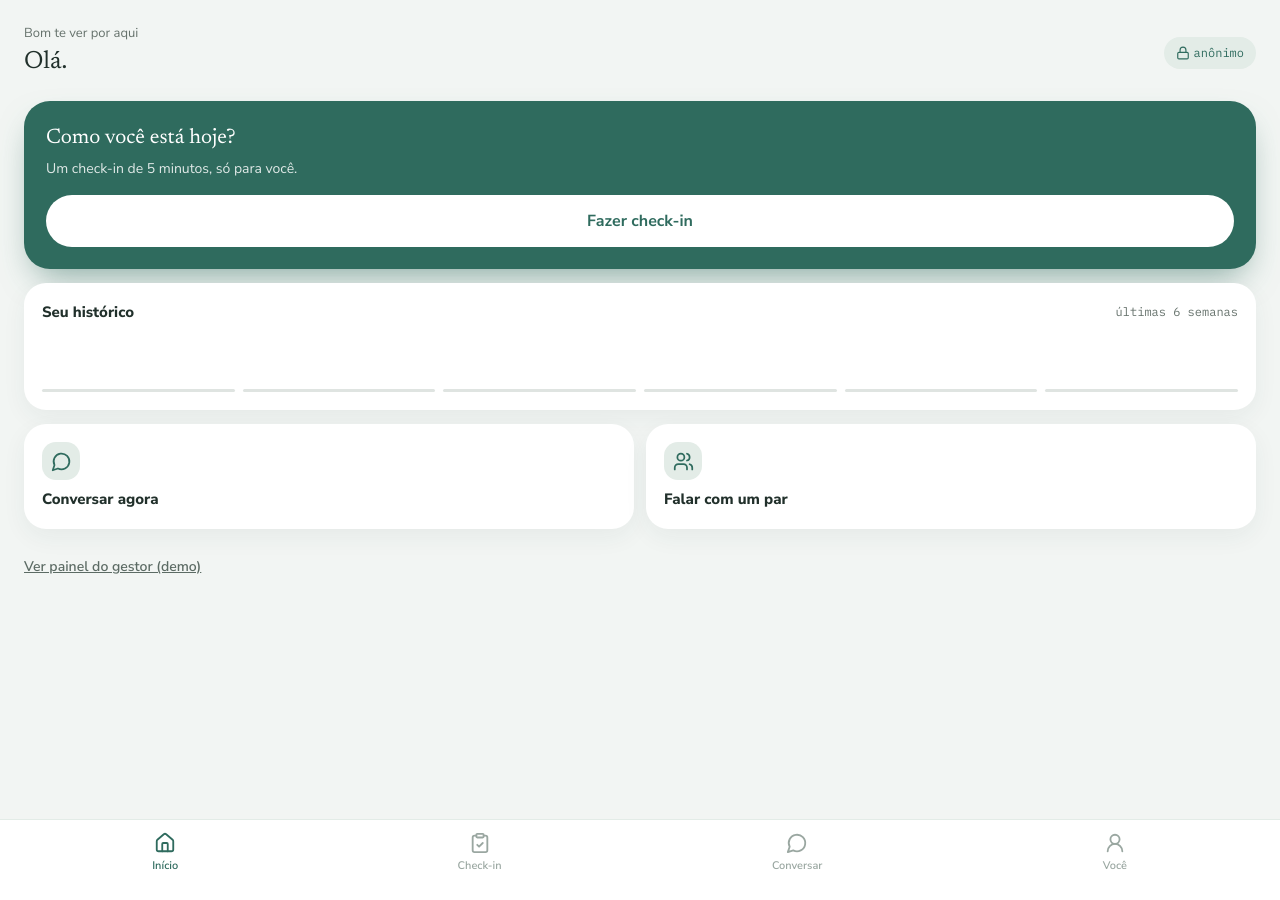
Test: onboarding router flow › Home's Manager demo link reaches the manager login screen when unauthenticated
Click the button "Ver painel do gestor (demo)".
click(113, 567)  # box [24,545,1256,589]
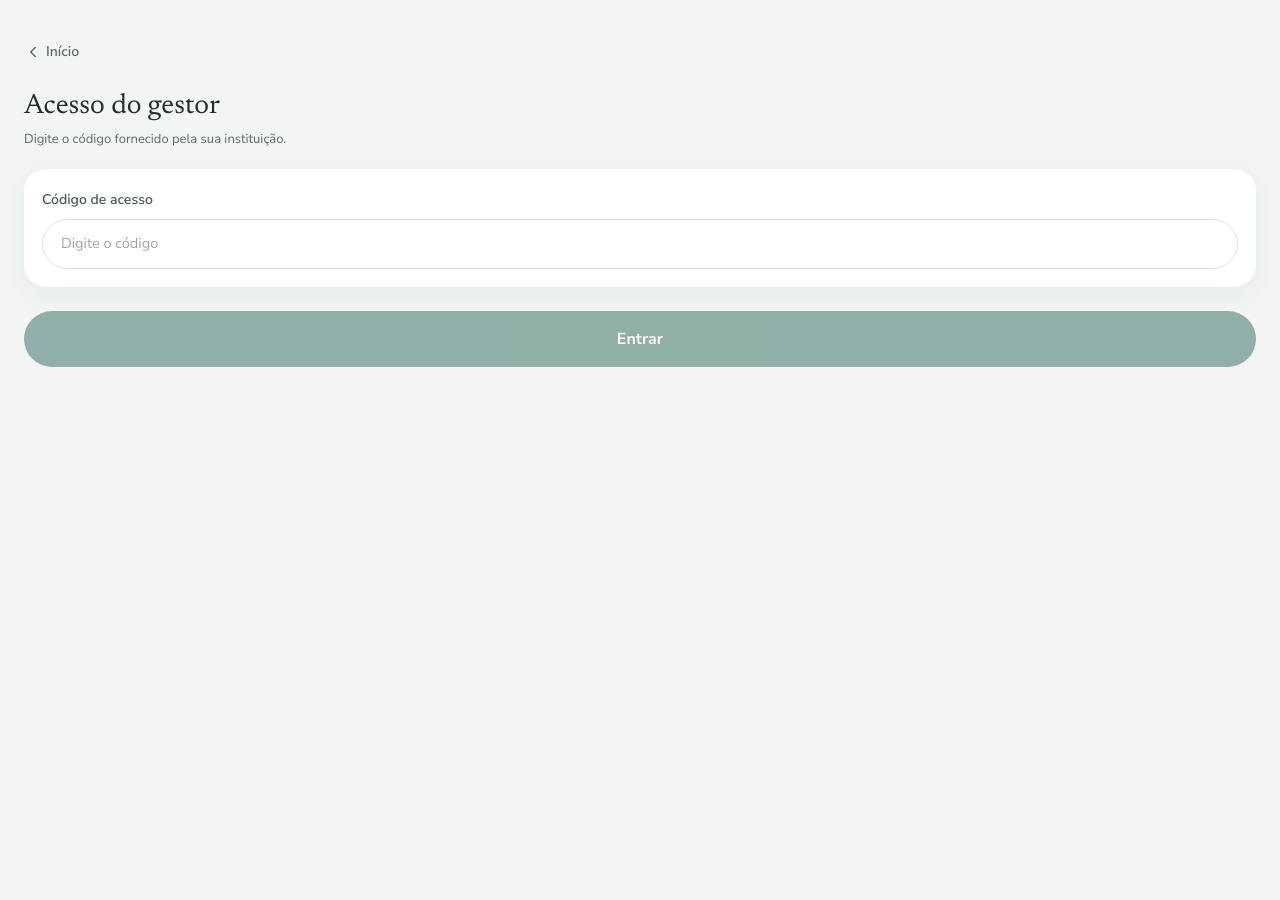
Expected: the heading "Acesso do gestor" is shown, [24,92,220,120]
